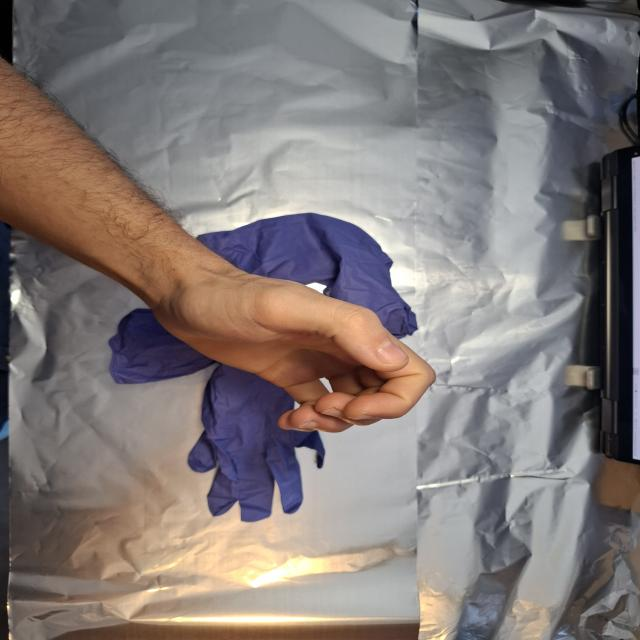glove_off: (145, 256, 440, 434)
